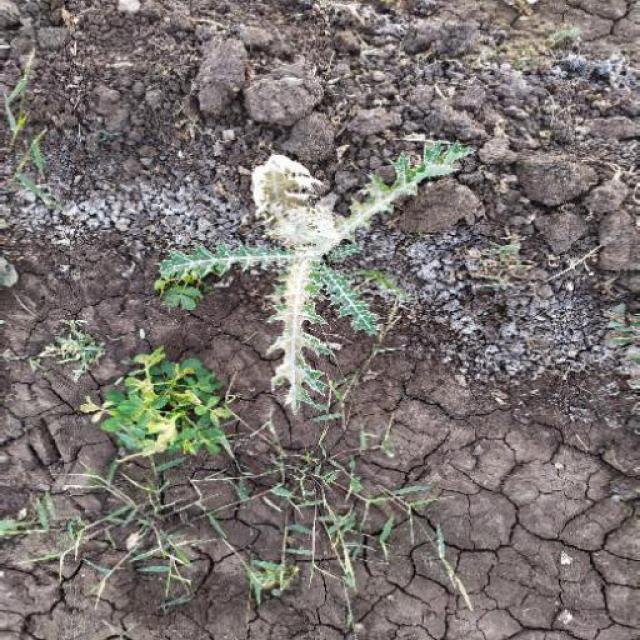weed: (66, 339, 524, 621), (161, 101, 469, 401)
